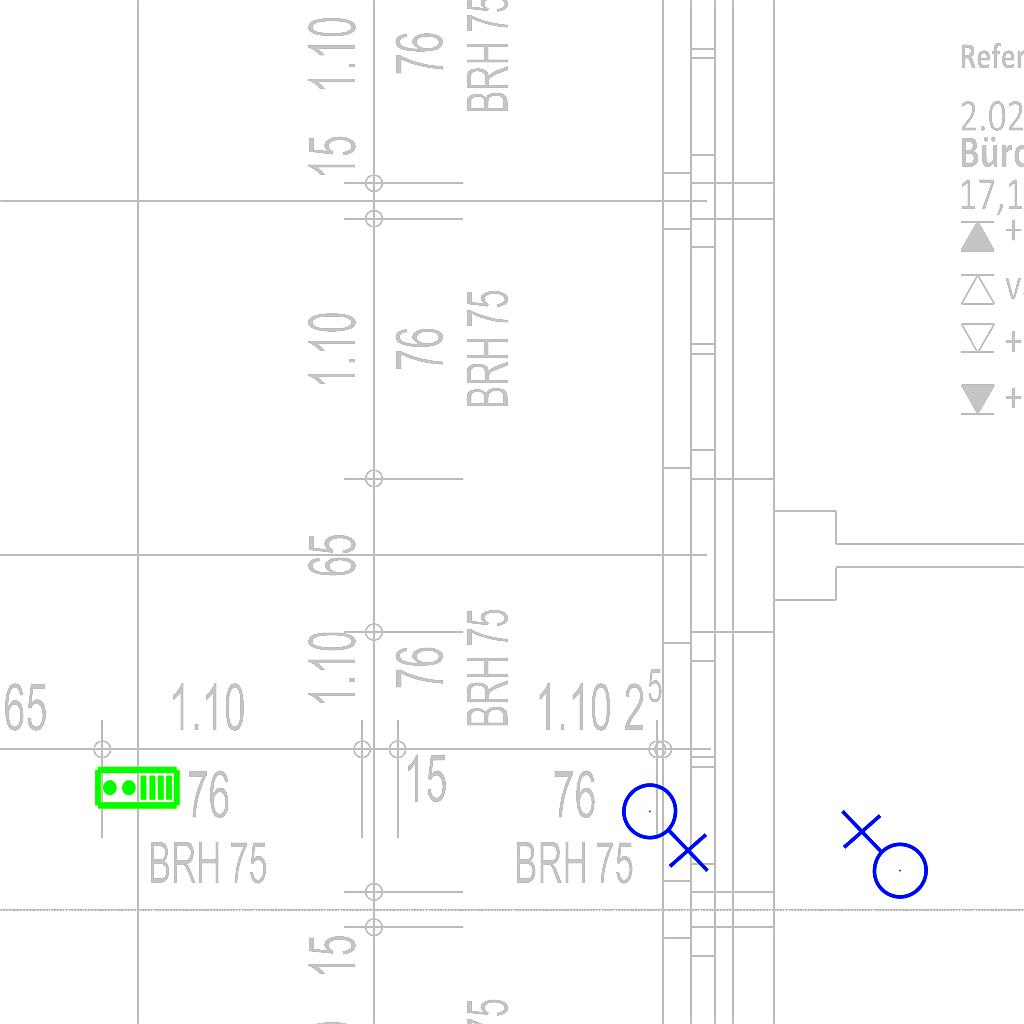Elektroanschluss_allgemein_230V_Geraeteanschlussdose_230V: (620, 774, 714, 873), (836, 809, 930, 908)
Gegensprechanlage_mit_Video: (93, 765, 181, 812)
